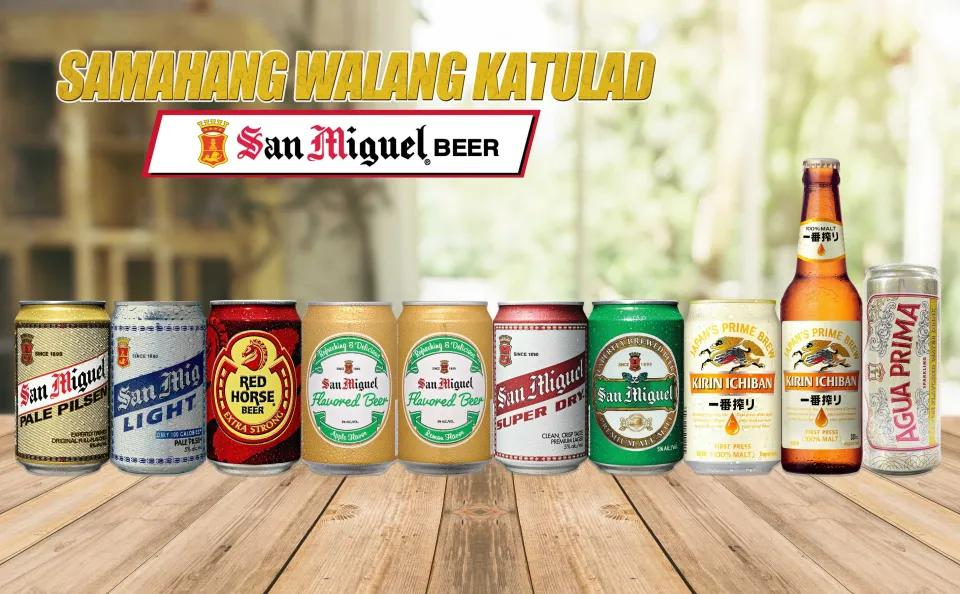can: (588, 300, 684, 473), (685, 300, 780, 474), (15, 302, 110, 474), (111, 301, 205, 474), (863, 264, 940, 474), (492, 303, 587, 473), (207, 301, 300, 474), (398, 303, 492, 474), (303, 302, 396, 474)
